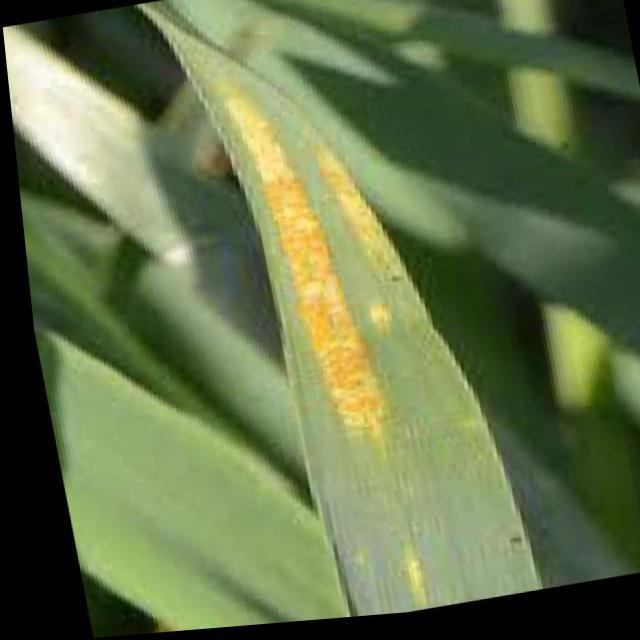Yellow_Rust: (140, 0, 535, 621)
